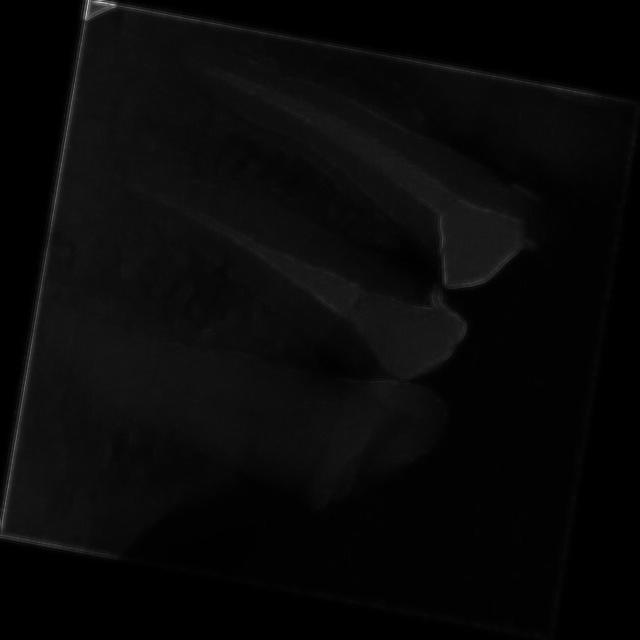Class 0- No endodontic treatment: (144, 22, 599, 220)
Class 1- complete endodontic treatment: (43, 138, 440, 349)
